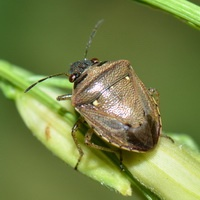insect: (24, 19, 161, 170)
